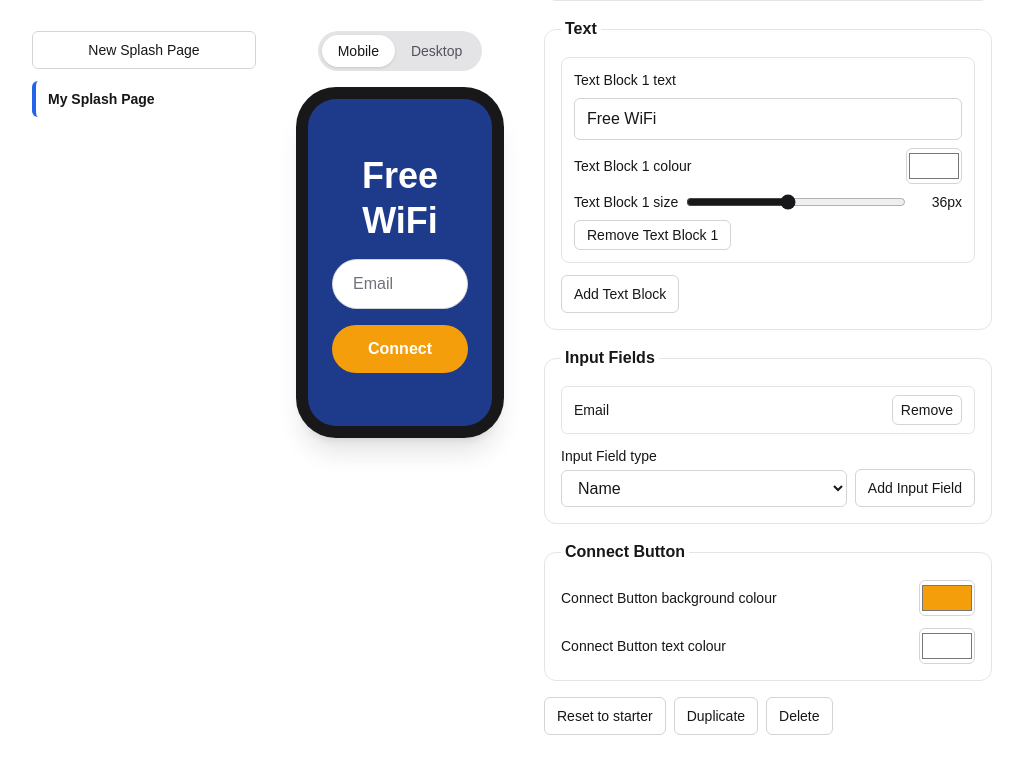
Test: Captivator: Input Fields › the add Input Field control offers only unused types, and goes once there are two Input Fields
(page scrolled)
Step 1. Click the button "Add Input Field" → (915,488), box [855, 469, 975, 507]
(page scrolled)
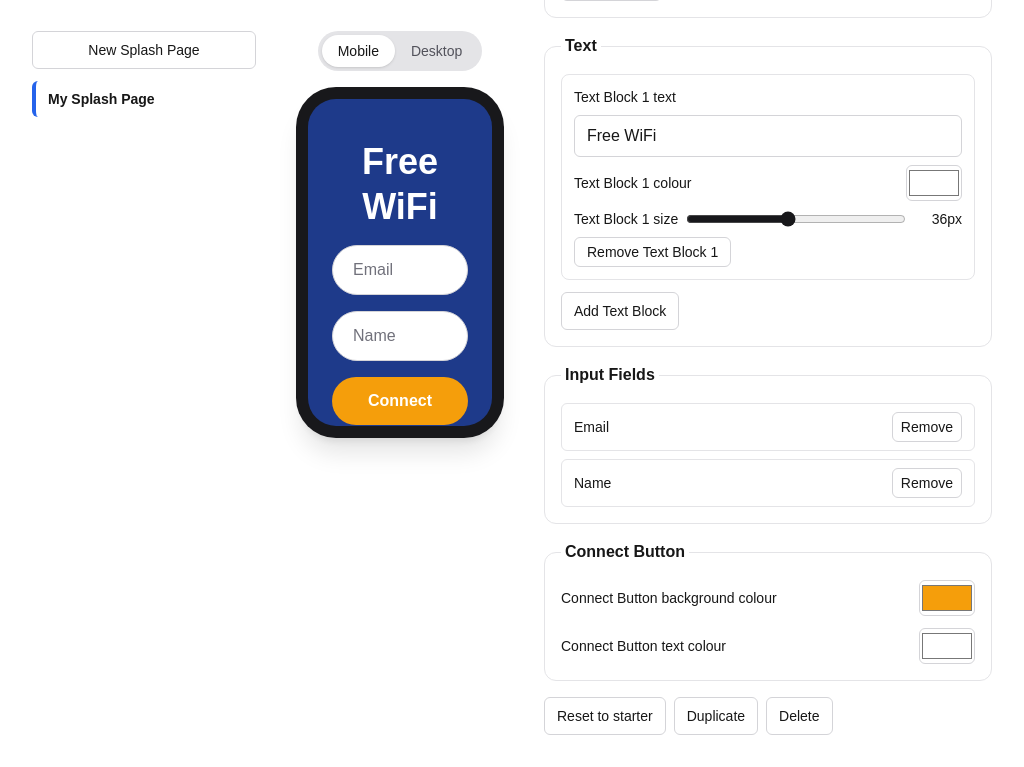
Check: the label "Input Field type" is gone
Check: the button "Add Input Field" is gone
